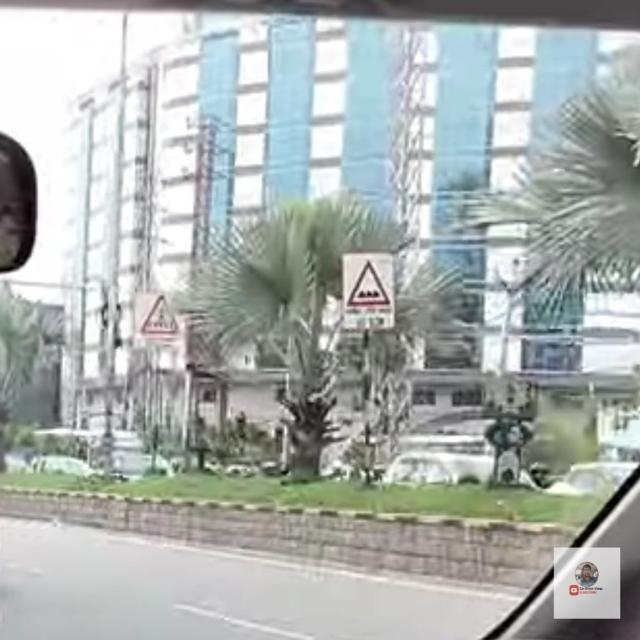Pedestrain_crossing: (129, 289, 186, 350)
Rumble_strip: (335, 248, 407, 340)
